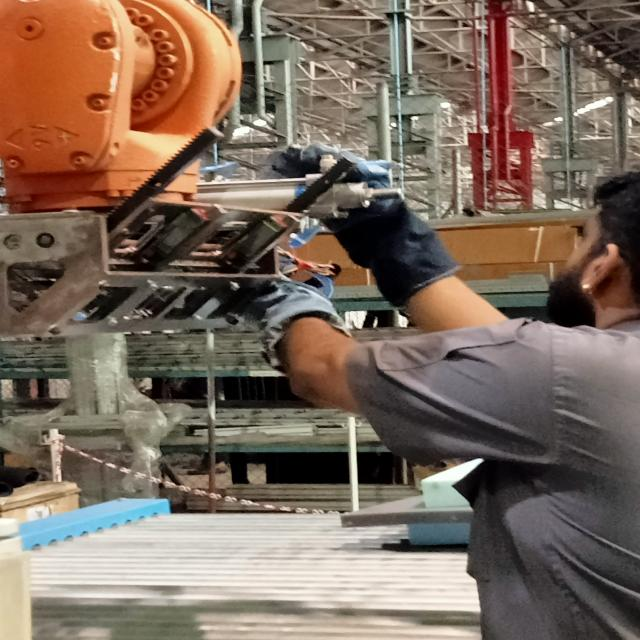Gloves-Detection: (272, 140, 438, 290), (237, 289, 339, 352)
